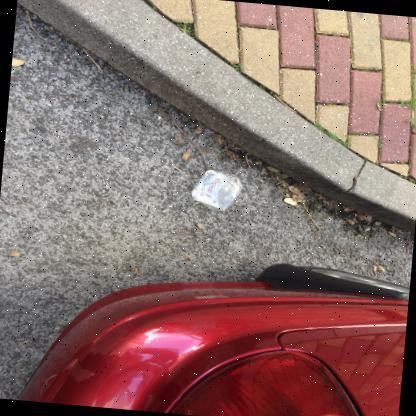Disposable food container: (192, 170, 243, 210)
